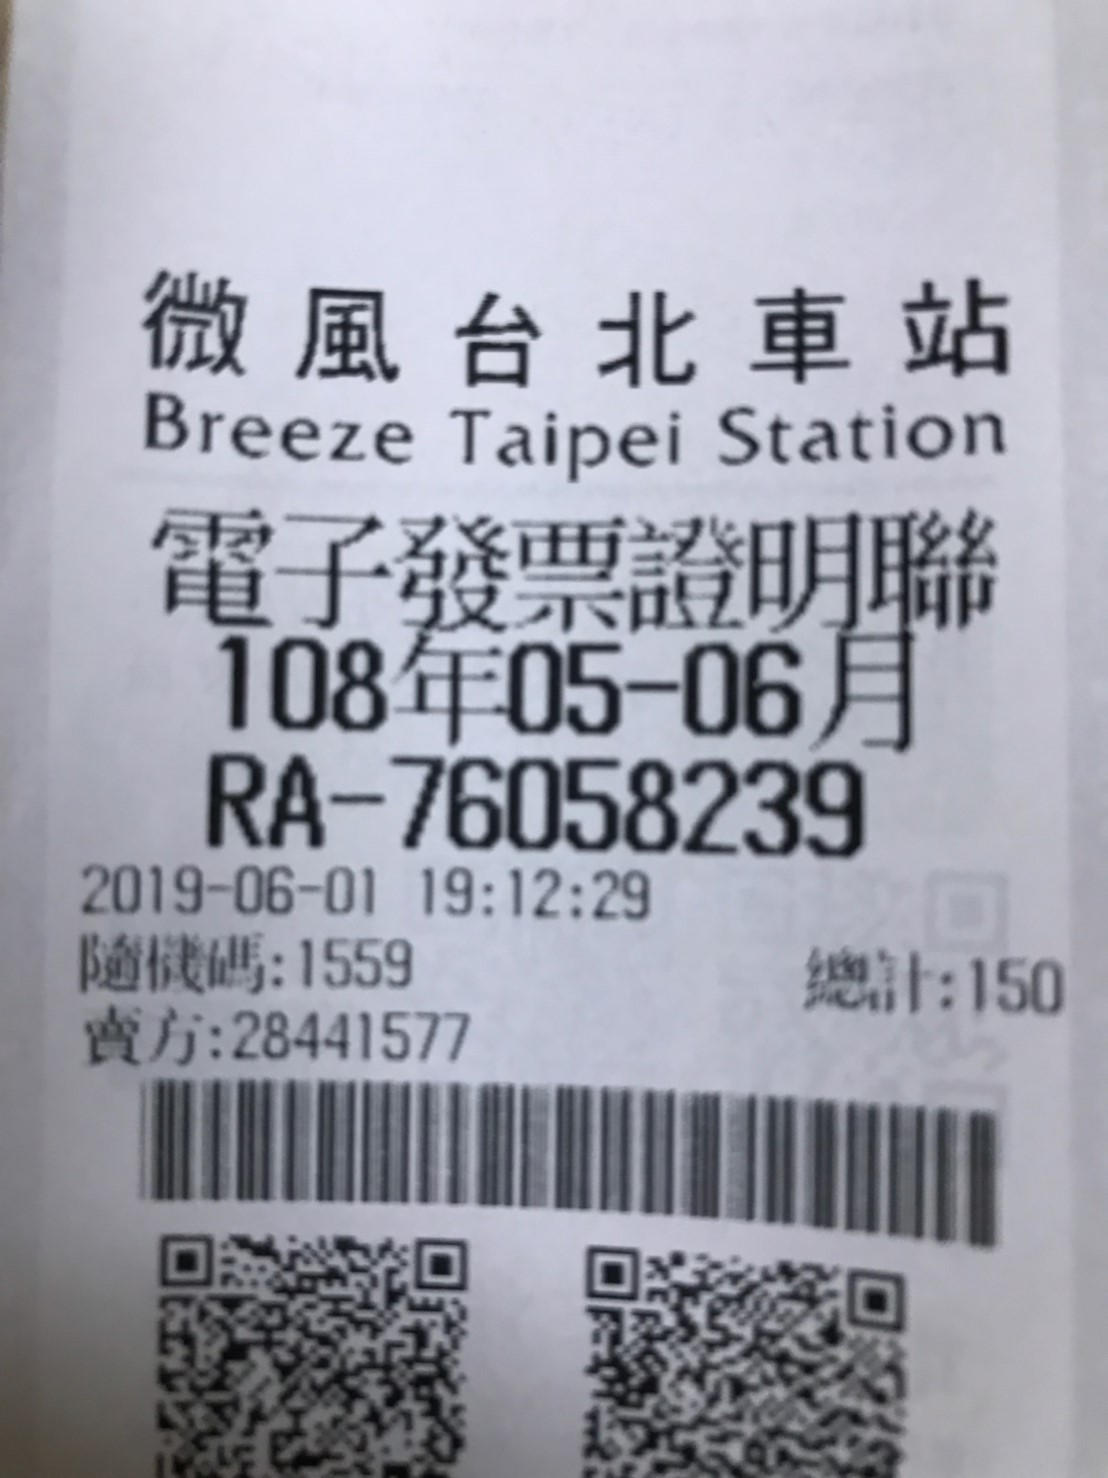Date_New: (219, 632, 917, 753)
Number_New: (388, 742, 871, 859)
